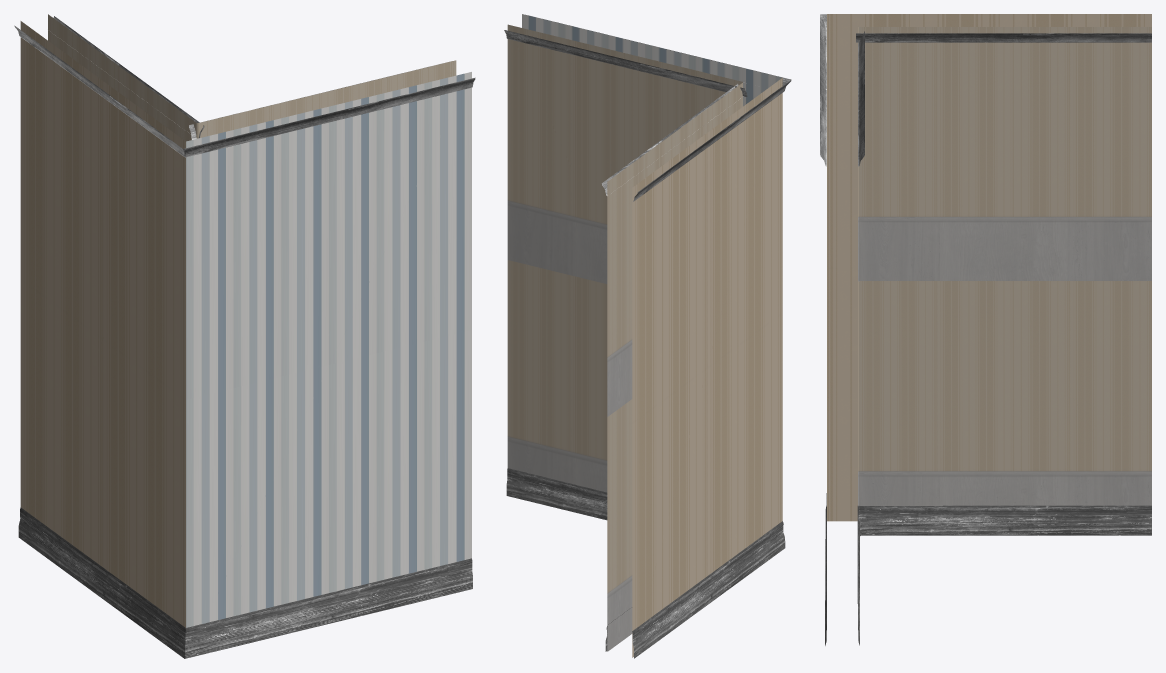
File: SM_Corner_1Floor_Inside_A1.fbx
3 views of the same model, side by side, from view 1: azimuth 30°, elevation 25°; view 2: azimuth 150°, elevation 25°; view 3: azimuth 270°, elevation 25° (orthographic). The views are drawn at different scales.
Visible parts, largest first — view 1: SM_Corner_1Floor_Inside_A1; view 2: SM_Corner_1Floor_Inside_A1; view 3: SM_Corner_1Floor_Inside_A1.
Boxes of the visible parts, bbox=[...] form: SM_Corner_1Floor_Inside_A1: bbox=[14, 14, 475, 658]; SM_Corner_1Floor_Inside_A1: bbox=[504, 14, 791, 658]; SM_Corner_1Floor_Inside_A1: bbox=[820, 14, 1151, 645].
Bounding box in the file's own units: 150 × 150 × 253.
Materials: 4 (4 with a texture image).
